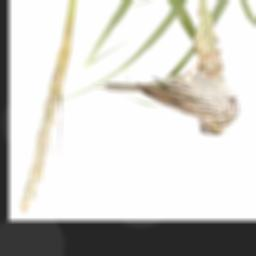Sparrow: (92, 49, 240, 138)
